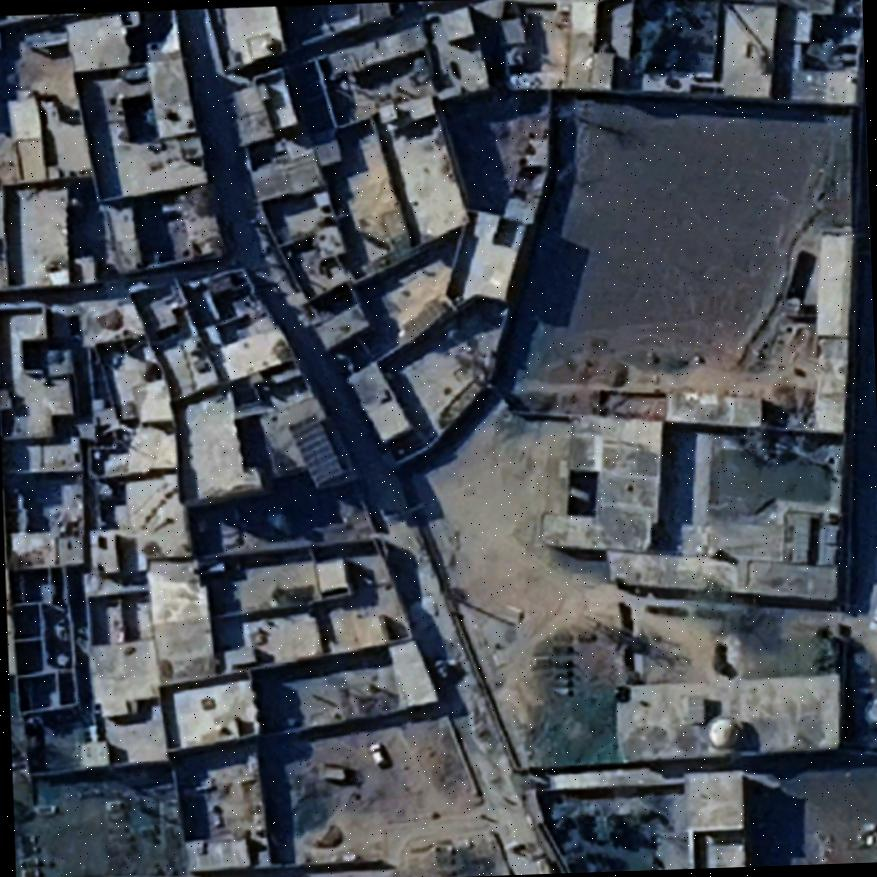Solarpanel: (289, 410, 345, 490)
